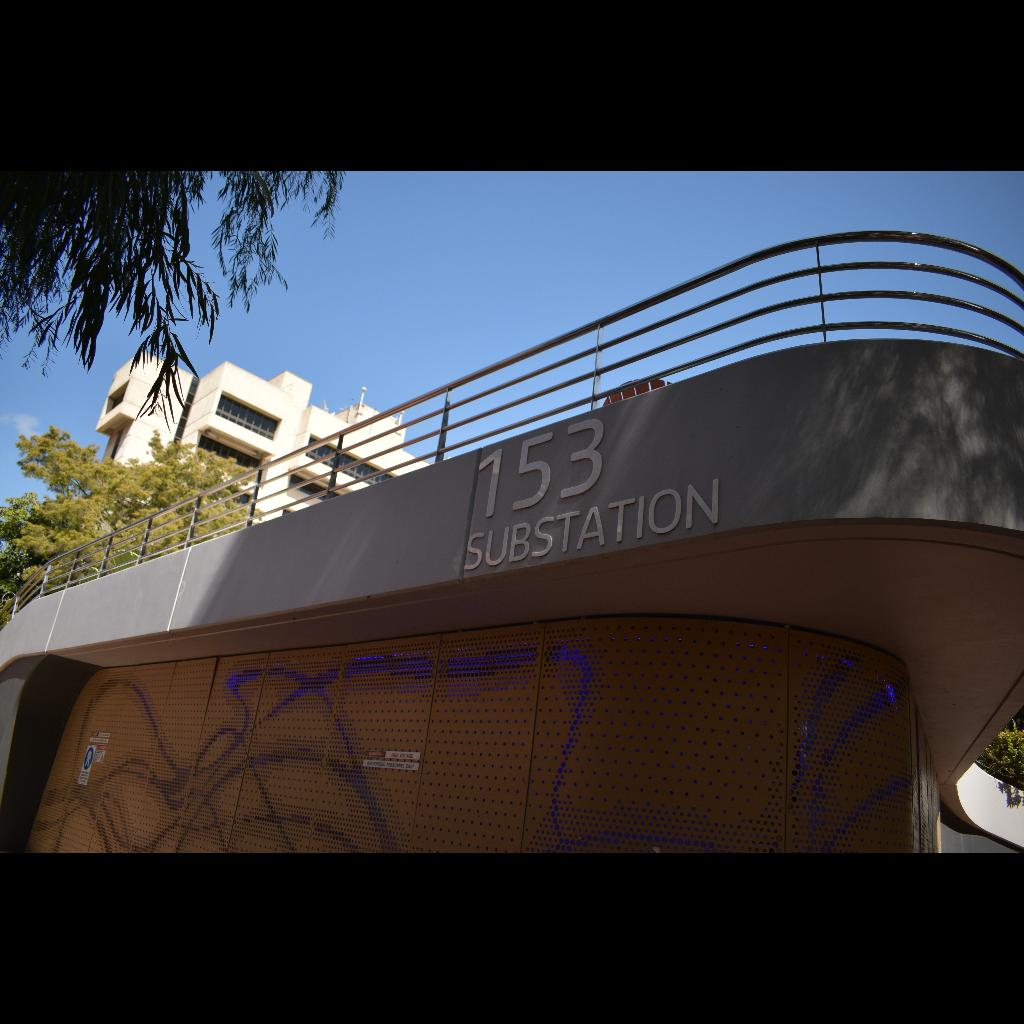BuildingCodes: (472, 414, 610, 524)
